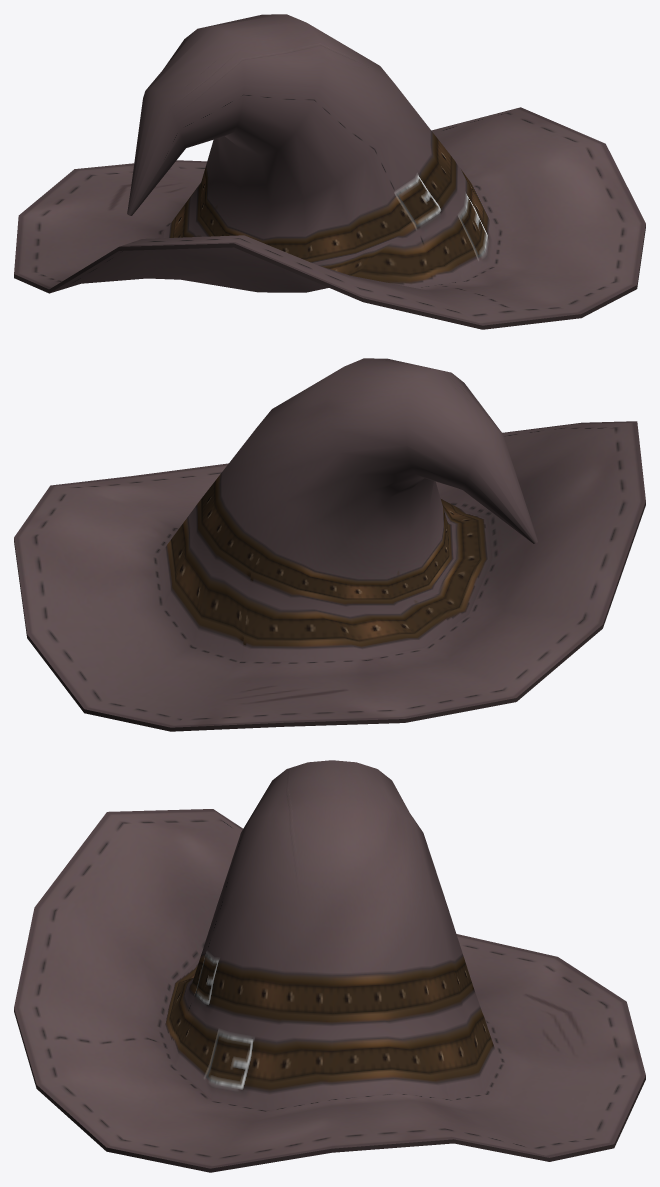
File: hat.glb
The picture shows the model from 3 angles, top to bottom: view 1: azimuth 30°, elevation 25°; view 2: azimuth 150°, elevation 25°; view 3: azimuth 270°, elevation 25°; orthographic projection.
Parts seen in each view (by area): view 1: hat; view 2: hat; view 3: hat.
Part boxes in pixels (box(x1,y1,x2,y2)): hat: box(14, 14, 645, 329); hat: box(14, 358, 645, 731); hat: box(14, 760, 645, 1172).
Bounding box in the file's own units: 1.87 × 0.9274 × 1.84.
1 material, 1 textured.
